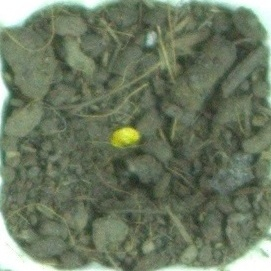chilli seed: (109, 125, 143, 151)
